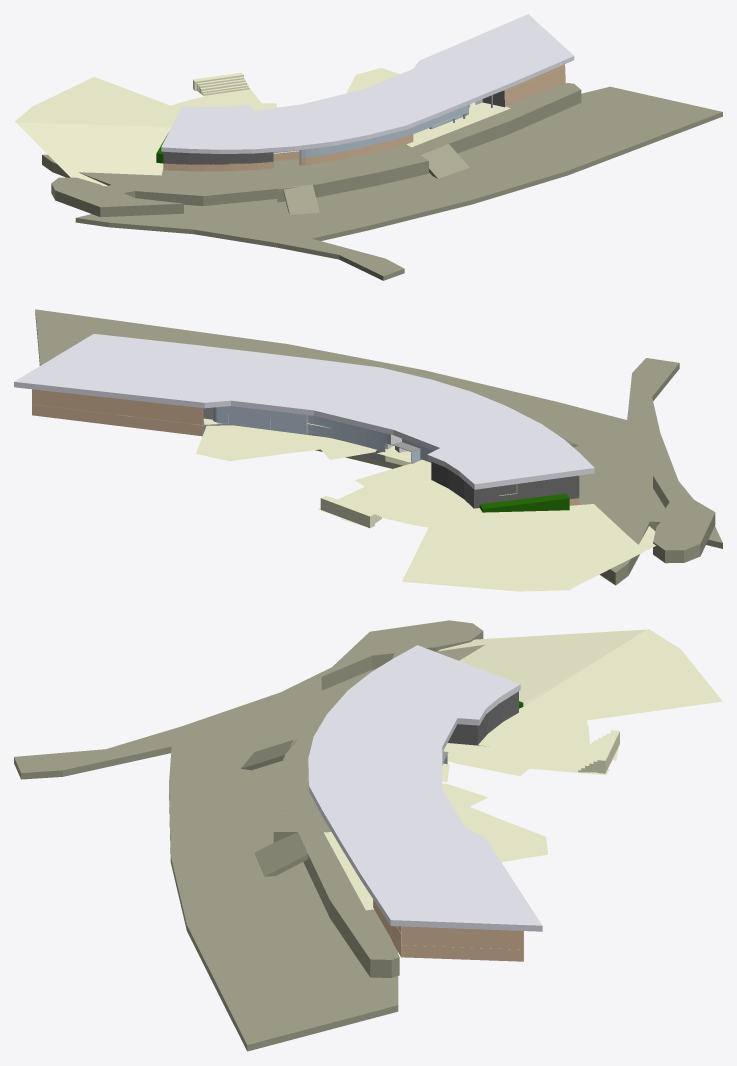
Rendered from A_C_D_E_AREA.fbx.
3 views of the same model, one above another, from view 1: azimuth 30°, elevation 25°; view 2: azimuth 150°, elevation 25°; view 3: azimuth 270°, elevation 25° (orthographic). The views are drawn at different scales.
Visible parts, largest first — view 1: Sol_EXT.002, Toit, SOL_EXT.005, Cube, SOL_EXT.004, SOL_EXT.002, SOL_EXT_PARKING, Facade, Mur_EXT_SUD.001, Cube.001, Mur_EXT_SUD, Cube.002 (+6 smaller); view 2: Toit, Sol_EXT.002, SOL_EXT.002, SOL_EXT.005, Cube, SOL_EXT.006, Mur_EXT_NORD.003, Mur_EXT_NORD.004, SOL_EXT.001, Facade.001, Cube.003, Facade (+7 smaller); view 3: Sol_EXT.002, Toit, SOL_EXT.002, SOL_EXT.005, SOL_EXT.004, Cube, SOL_EXT.006, SOL_EXT.001, Mur_EXT_EST.002, Mur_EXT_EST, Cube.001, SOL_EXT.003 (+5 smaller).
Part boxes in pixels (x1,y1,x2,y2): Sol_EXT.002: (75,86,722,280); Toit: (161,14,574,153); SOL_EXT.005: (42,149,394,217); Cube: (16,122,171,187); SOL_EXT.004: (277,83,581,202); SOL_EXT.002: (14,77,233,128); SOL_EXT_PARKING: (406,102,510,147); Facade: (163,152,273,164); Mur_EXT_SUD.001: (299,134,413,165); Cube.001: (420,144,469,178); Mur_EXT_SUD: (299,127,412,157); Cube.002: (283,184,319,214); Toit: (14,334,594,489); Sol_EXT.002: (35,309,722,548); SOL_EXT.002: (341,480,570,591); SOL_EXT.005: (579,453,715,585); Cube: (483,504,655,588); SOL_EXT.006: (196,425,376,461); Mur_EXT_NORD.003: (32,404,202,436); Mur_EXT_NORD.004: (32,393,202,424); SOL_EXT.001: (318,459,431,510); Facade.001: (431,462,579,499); Cube.003: (479,493,569,512); Facade: (431,471,579,508); Sol_EXT.002: (14,667,398,1051); Toit: (308,645,542,931); SOL_EXT.002: (478,629,722,760); SOL_EXT.005: (275,620,484,819); SOL_EXT.004: (273,735,399,977); Cube: (438,629,645,706); SOL_EXT.006: (442,783,547,861); SOL_EXT.001: (443,743,605,775); Mur_EXT_EST.002: (402,945,522,961); Mur_EXT_EST: (402,933,522,949); Cube.001: (254,832,308,876); SOL_EXT.003: (452,758,609,775).
Size of the model in its own units: 1746 by 136 by 1290.
